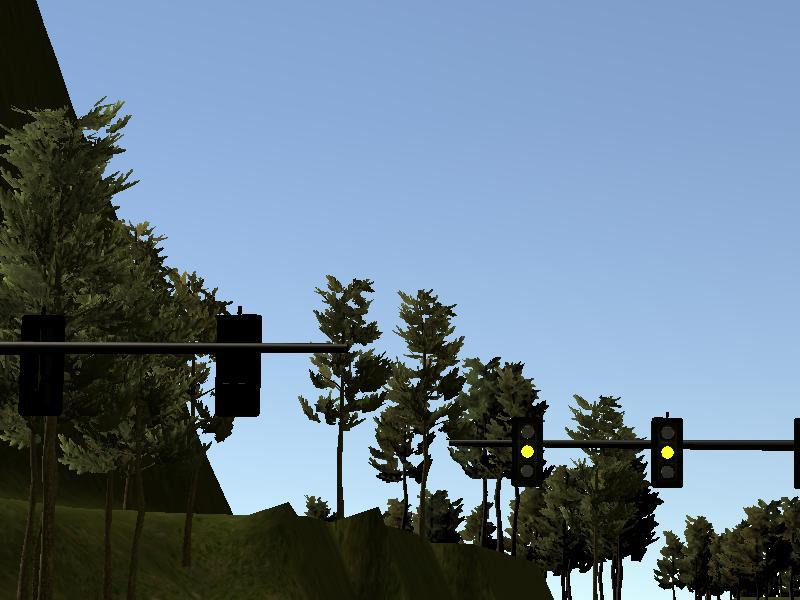Yellow: (651, 417, 683, 488), (512, 417, 542, 486)
